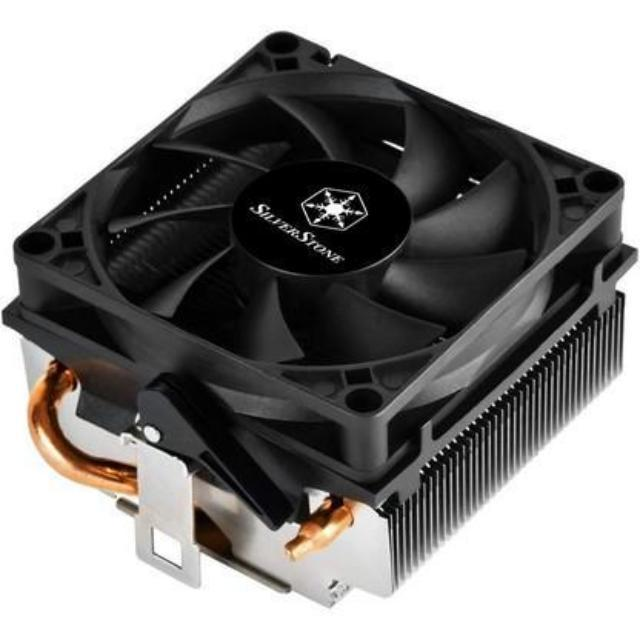CPU_Fan: (0, 17, 634, 628)
